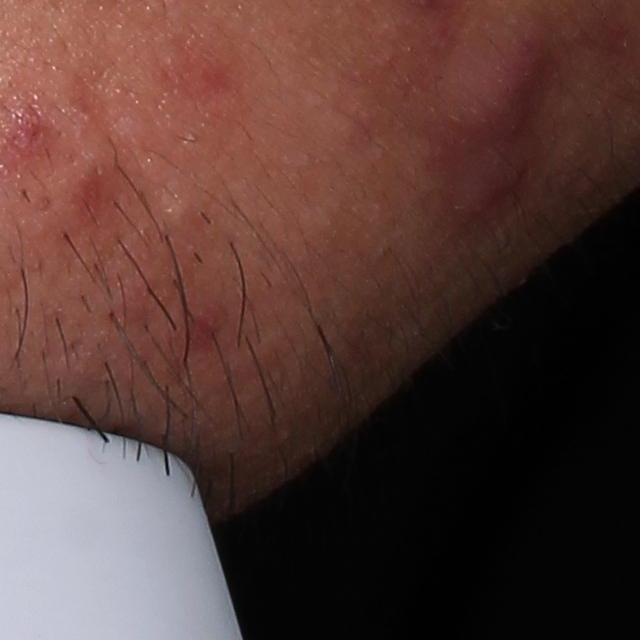nodule: (425, 14, 557, 211)
